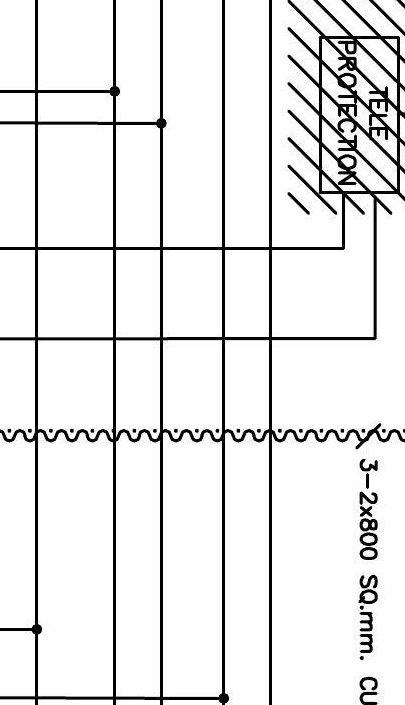tele_protection: (316, 33, 403, 197)
